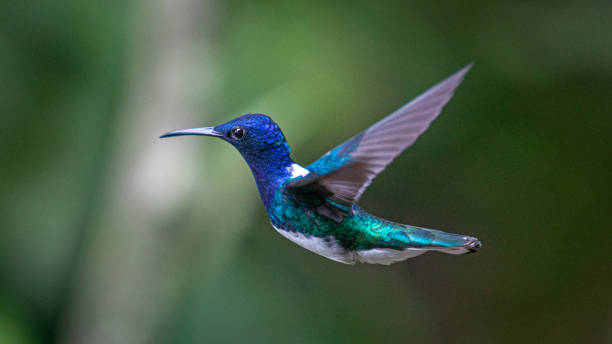Bird: (153, 58, 488, 268)
